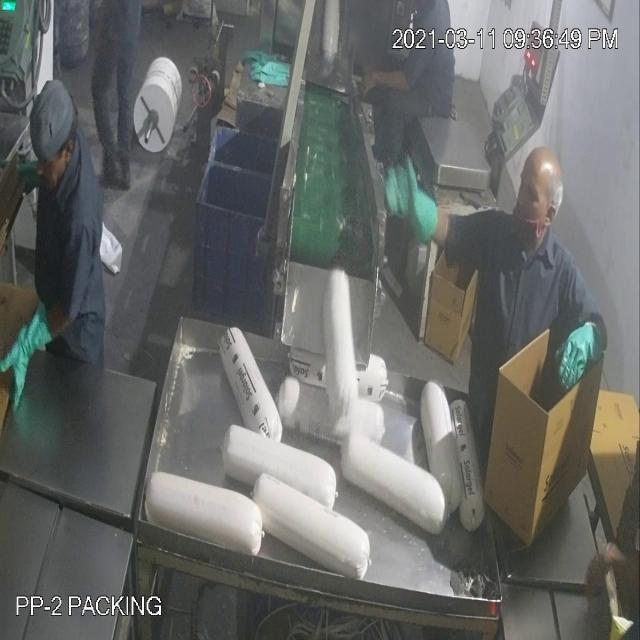No_Gloves: (51, 48, 586, 354)
